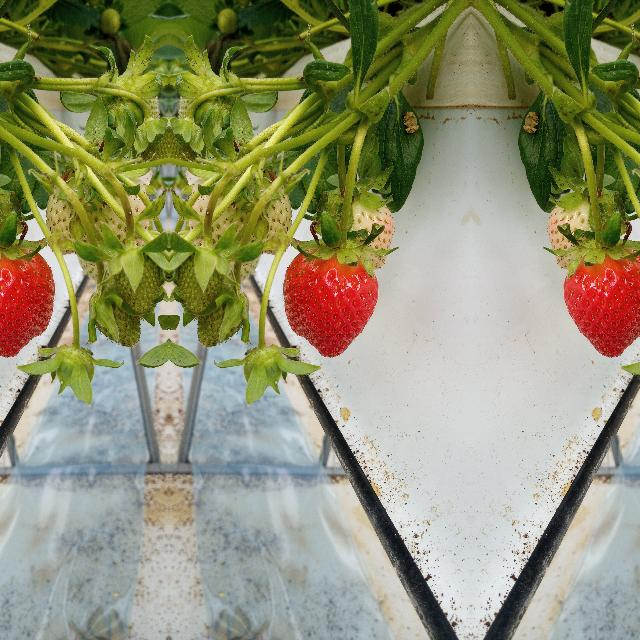Health_100: (280, 252, 378, 358), (563, 252, 640, 358), (0, 252, 56, 358)
